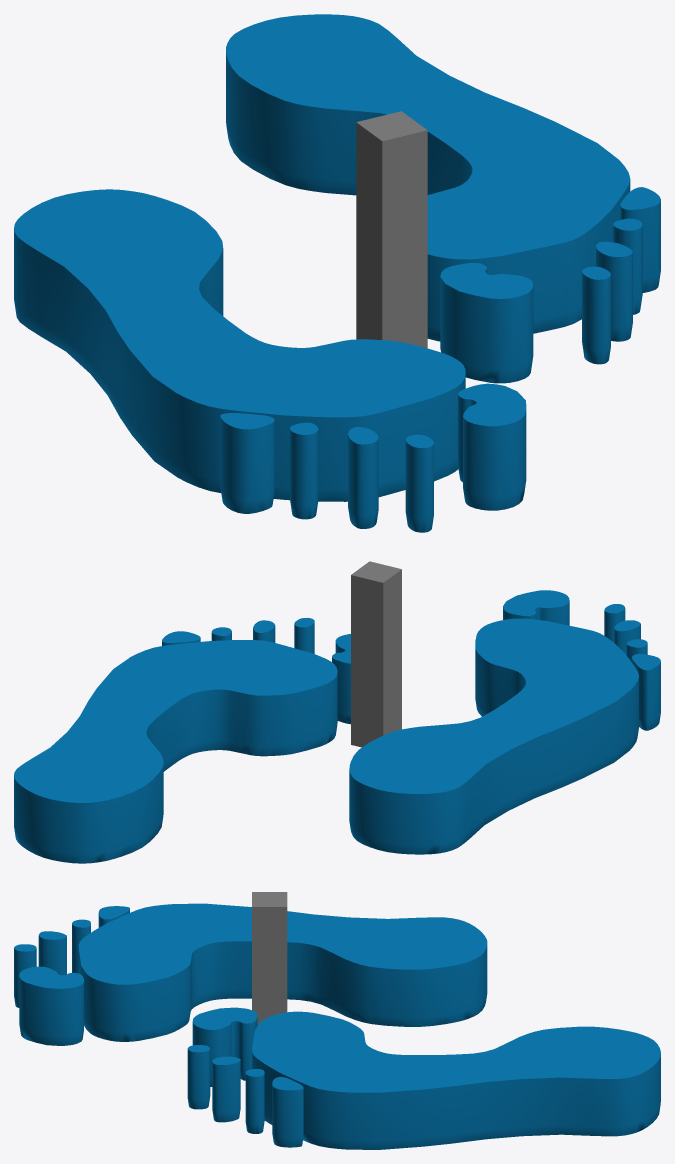
Rendered from Path.obj.
3 views of the same model, one above another, from view 1: azimuth 30°, elevation 25°; view 2: azimuth 150°, elevation 25°; view 3: azimuth 270°, elevation 25° (orthographic). The views are drawn at different scales.
Visible parts, largest first — view 1: Object__0, pCube1; view 2: Object__0, pCube1; view 3: Object__0, pCube1.
Part boxes in pixels (<box>): Object__0: <box>14,14,660,532</box>; pCube1: <box>356,111,427,348</box>; Object__0: <box>14,590,660,863</box>; pCube1: <box>351,561,401,747</box>; Object__0: <box>14,903,660,1149</box>; pCube1: <box>252,892,287,1025</box>.
Size of the model in its own units: 1.01 by 0.4 by 1.46.
